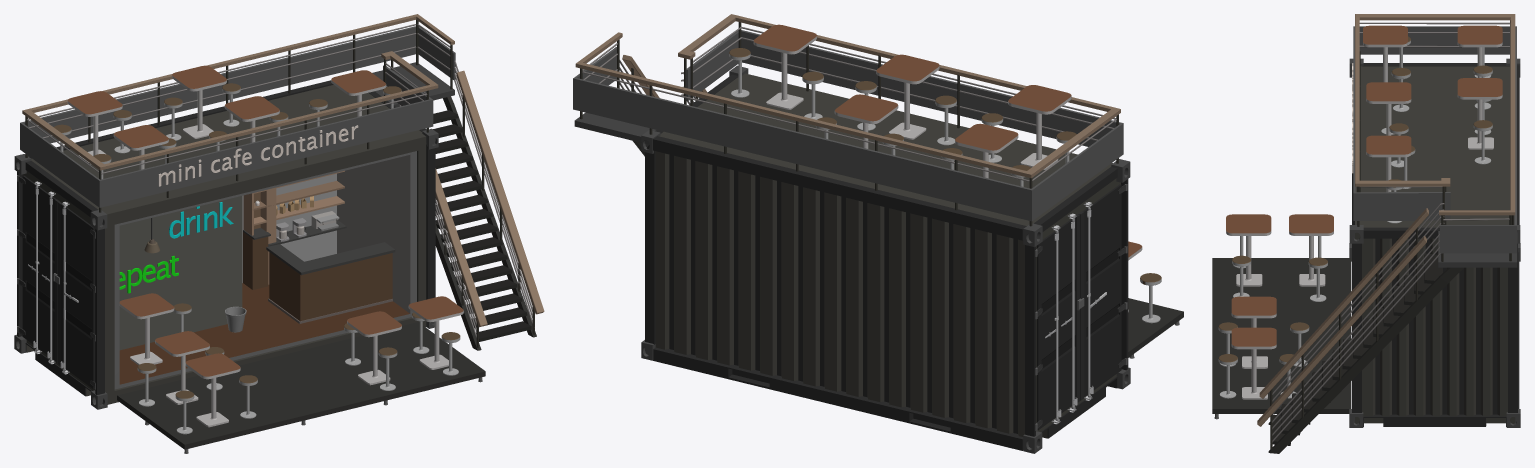
File: cafe.glb
3 views of the same model, side by side, from view 1: azimuth 30°, elevation 25°; view 2: azimuth 150°, elevation 25°; view 3: azimuth 270°, elevation 25° (orthographic). The views are drawn at different scales.
Parts seen in each view (by area): view 1: polySurface981; view 2: polySurface981; view 3: polySurface981.
Part boxes in pixels (x1,y1,x2,y2): polySurface981: (14,14,544,453); polySurface981: (573,14,1183,453); polySurface981: (1212,14,1520,453).
Bounding box in the file's own units: 10.68 × 6.22 × 6.83.
